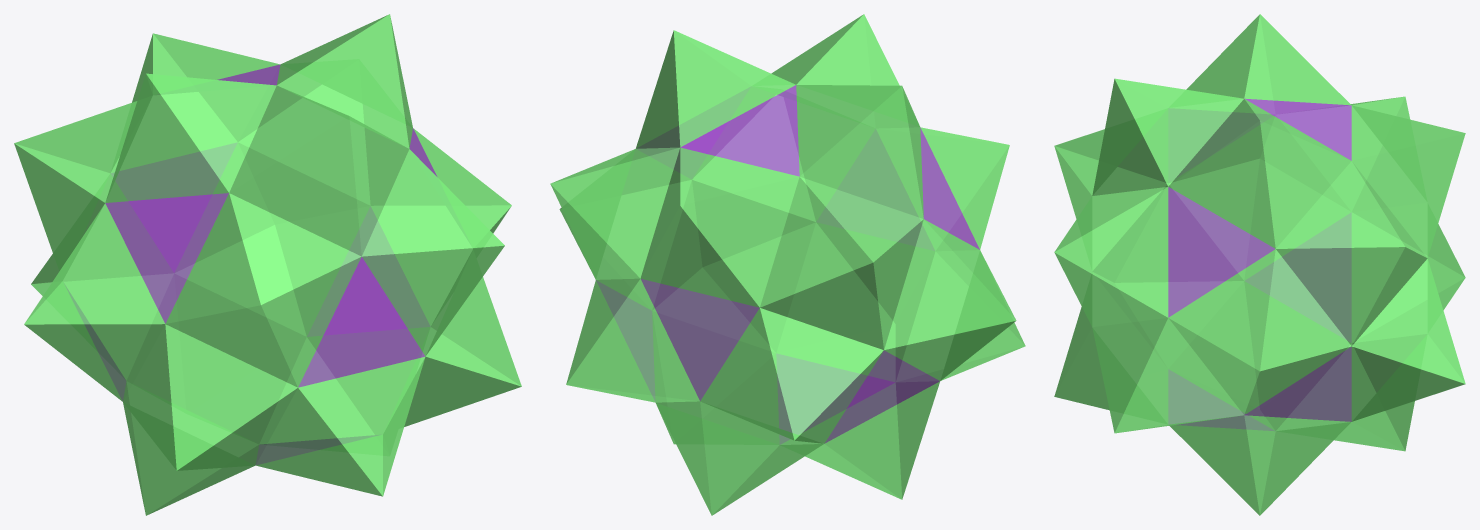
Rendered from 11_RhombicuboctahedronAugmented.obj.
3 views of the same model, side by side, from view 1: azimuth 30°, elevation 25°; view 2: azimuth 150°, elevation 25°; view 3: azimuth 270°, elevation 25° (orthographic). The views are drawn at different scales.
Size of the model in its own units: 3.83 by 3.32 by 3.13.
